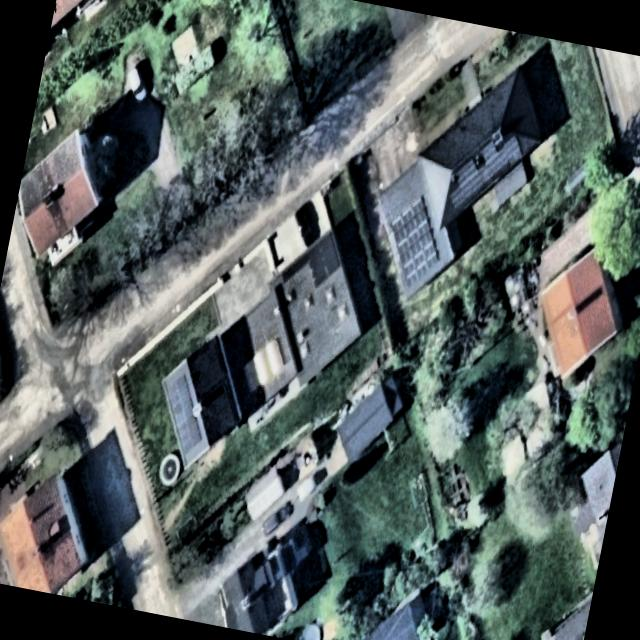roof_pv: (442, 157, 482, 220), (160, 372, 201, 426), (167, 408, 206, 458), (497, 128, 529, 168), (480, 146, 504, 184)
